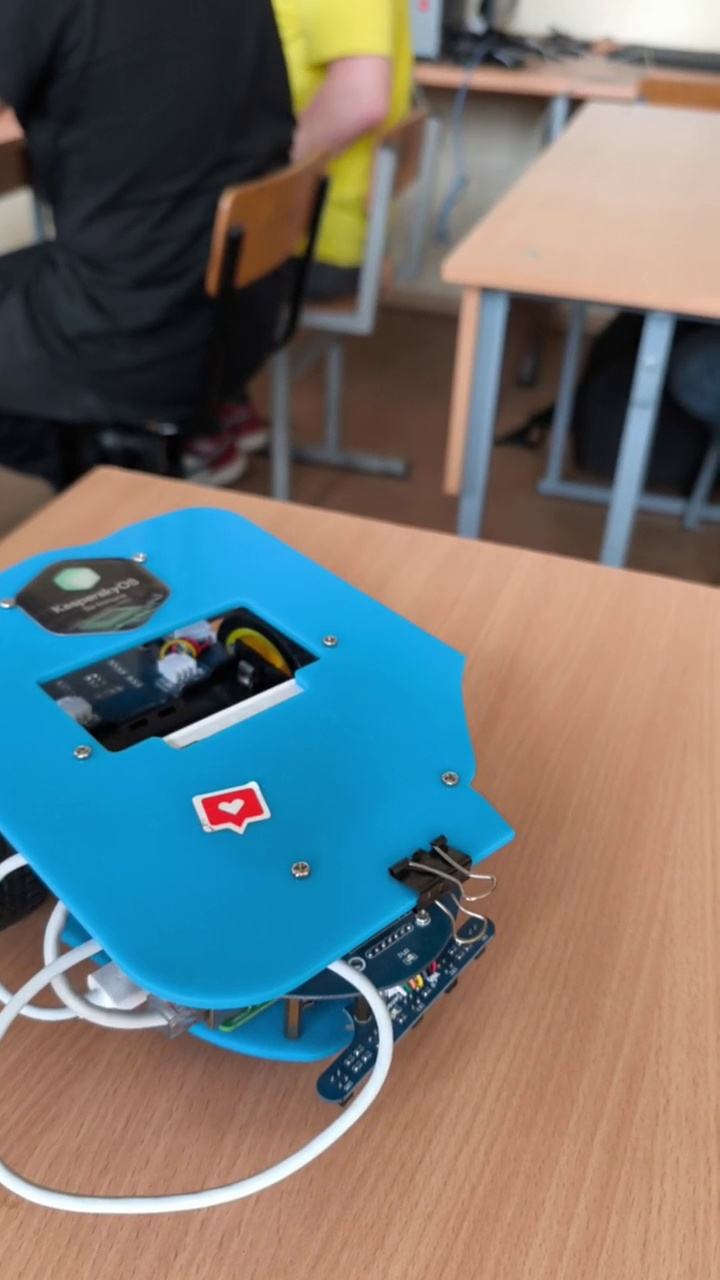robot: (1, 503, 521, 1218)
